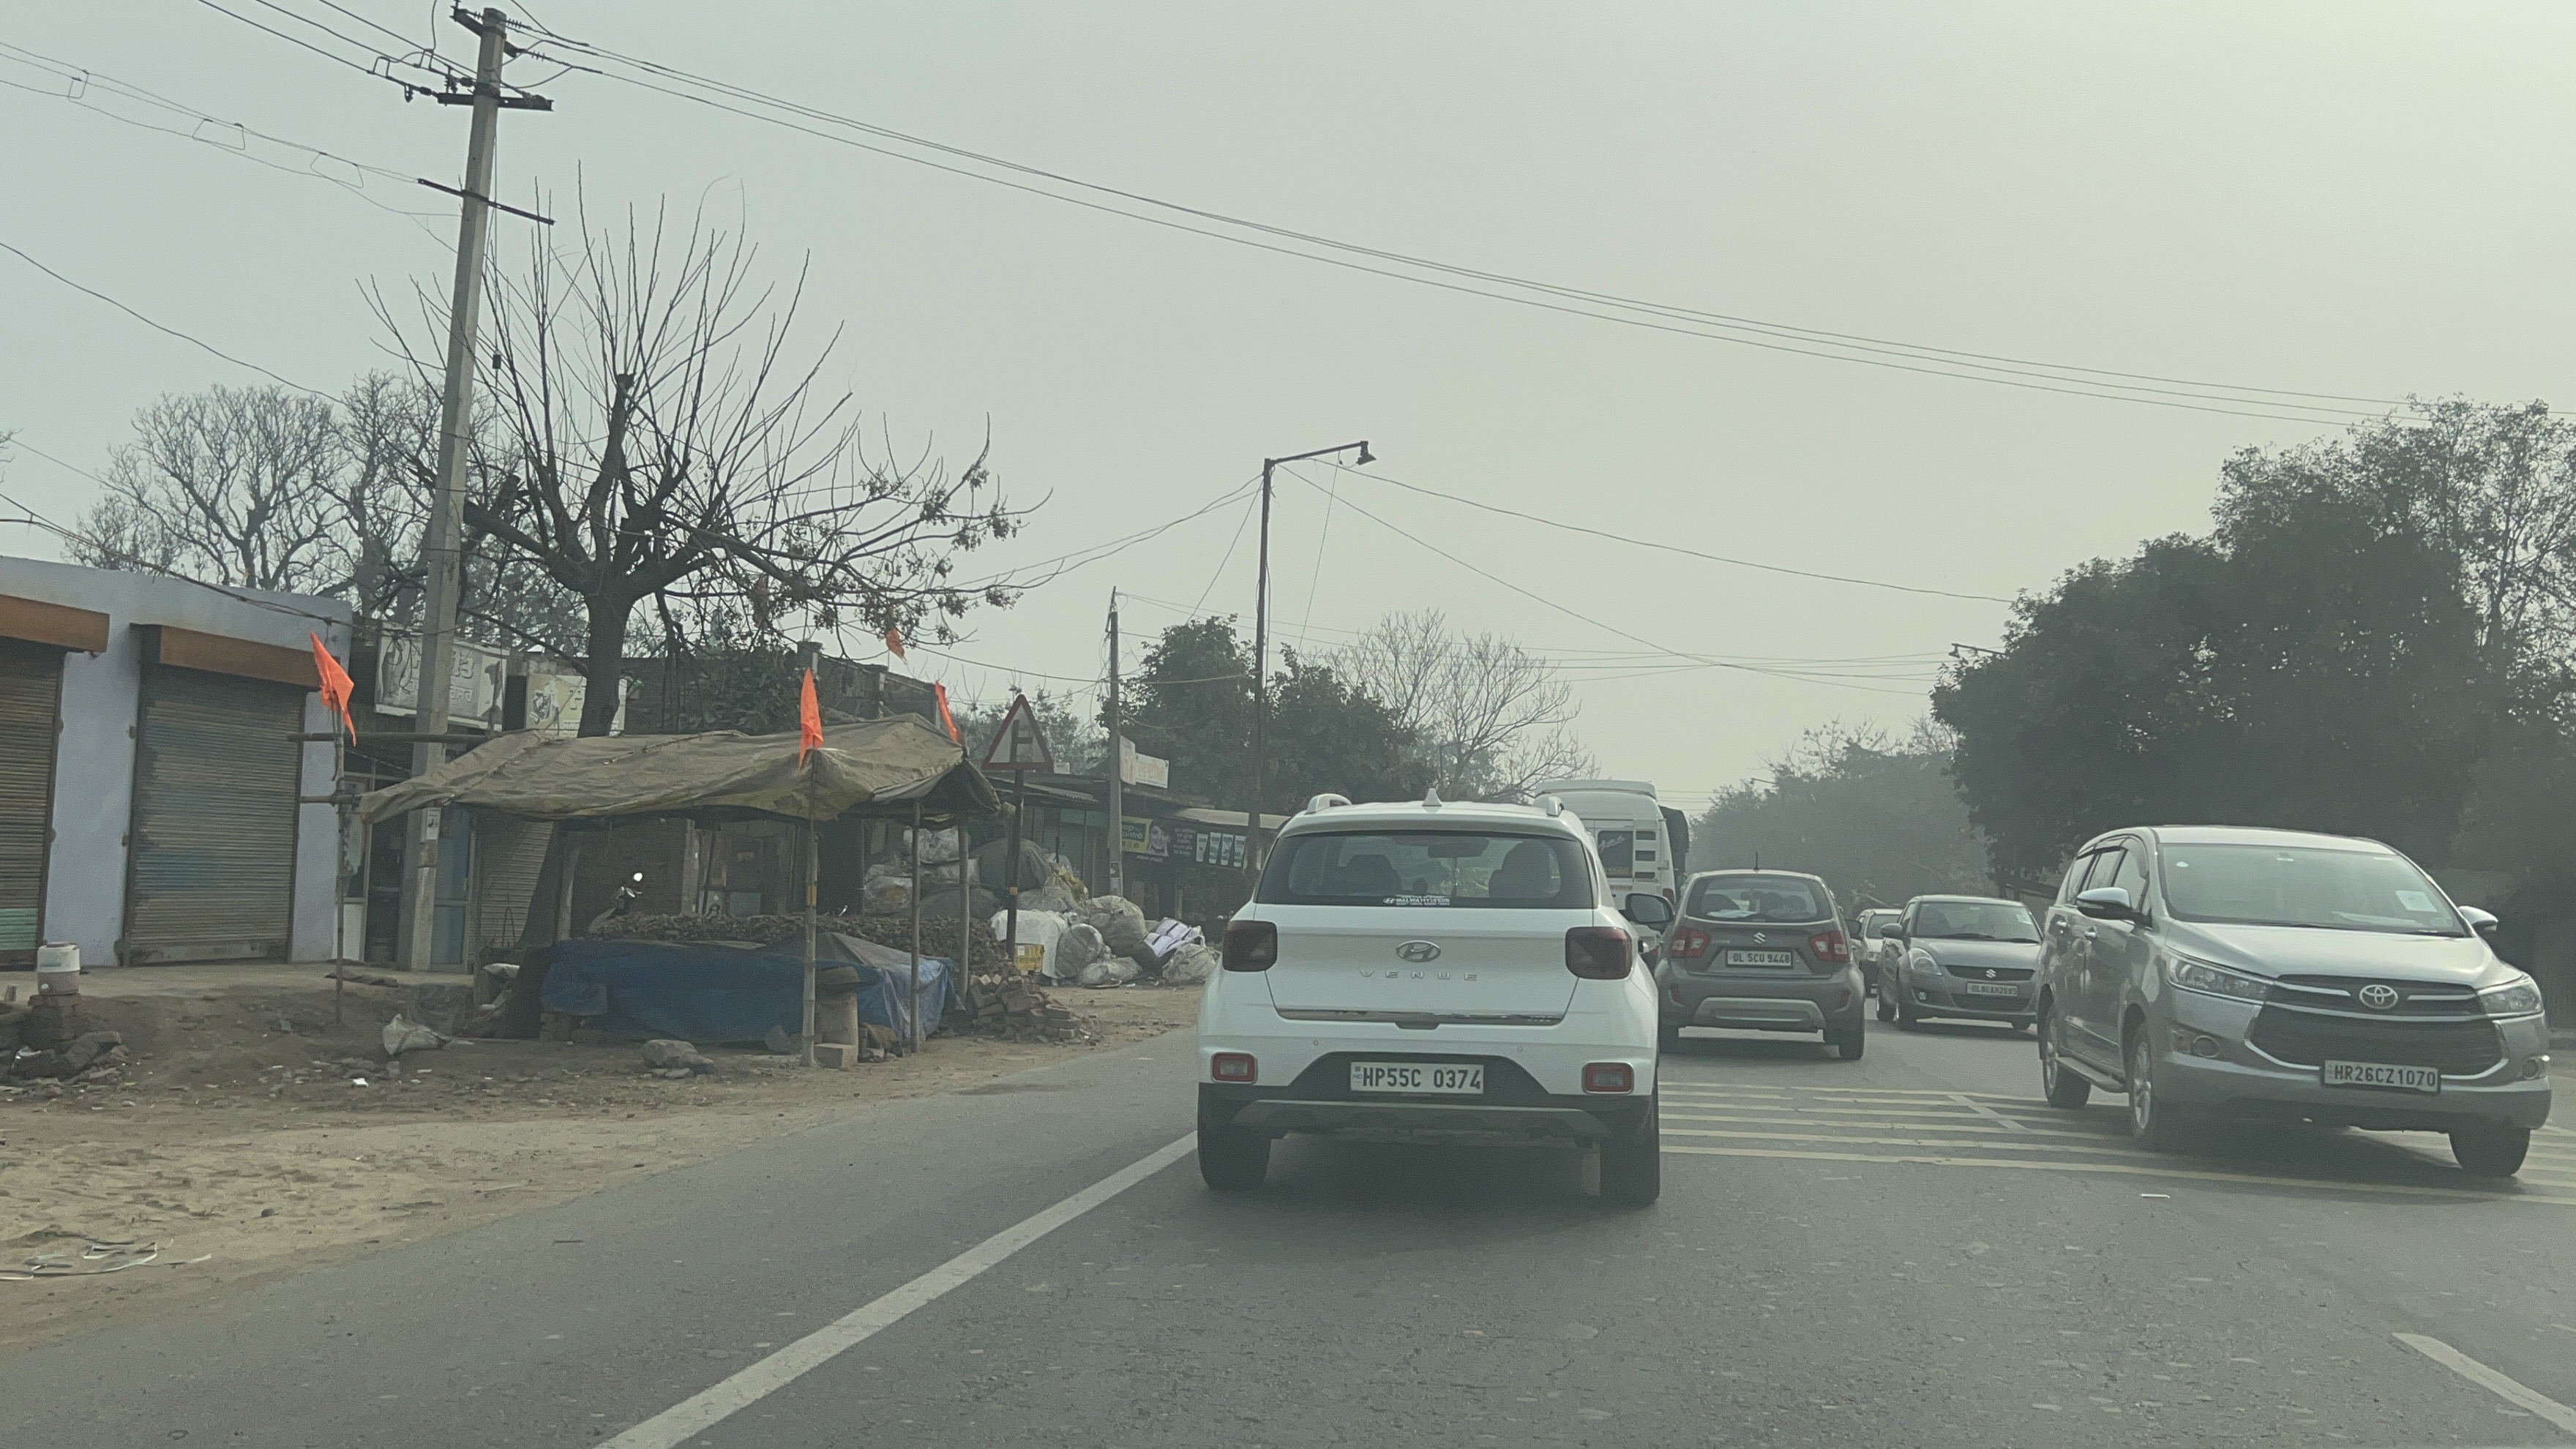Warning: (961, 681, 1072, 789)
